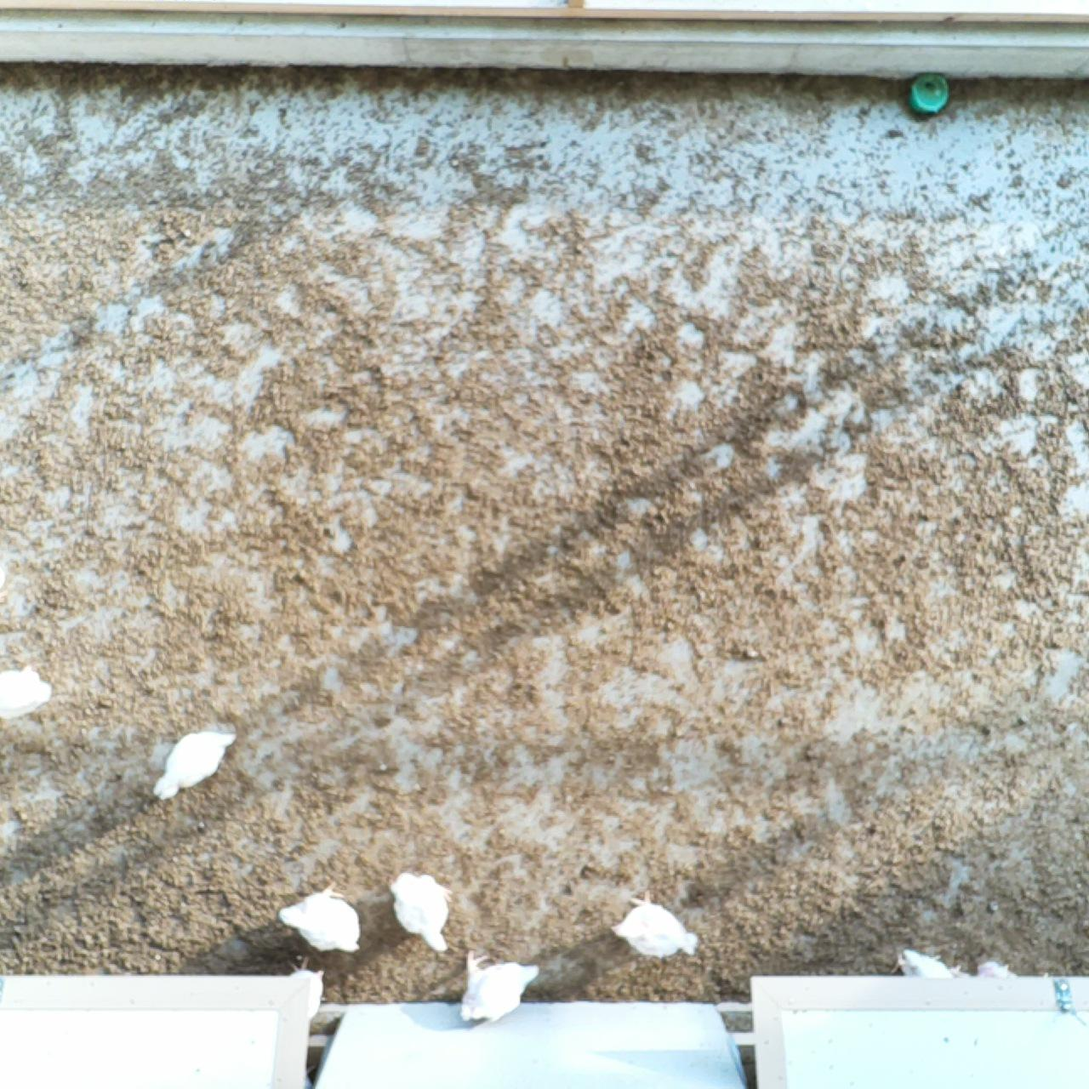chicken: (454, 947, 544, 1026), (277, 879, 363, 955), (154, 726, 240, 802), (607, 892, 699, 963), (894, 941, 979, 1011), (390, 865, 454, 957), (264, 960, 334, 1033), (0, 662, 53, 723), (975, 952, 1025, 1013)
